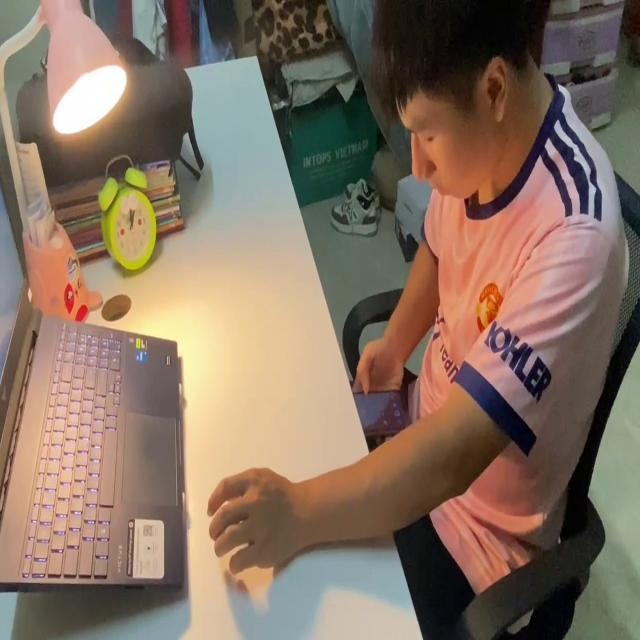laptop: (0, 177, 188, 595)
phone: (350, 380, 410, 438)
student: (210, 0, 632, 640)
